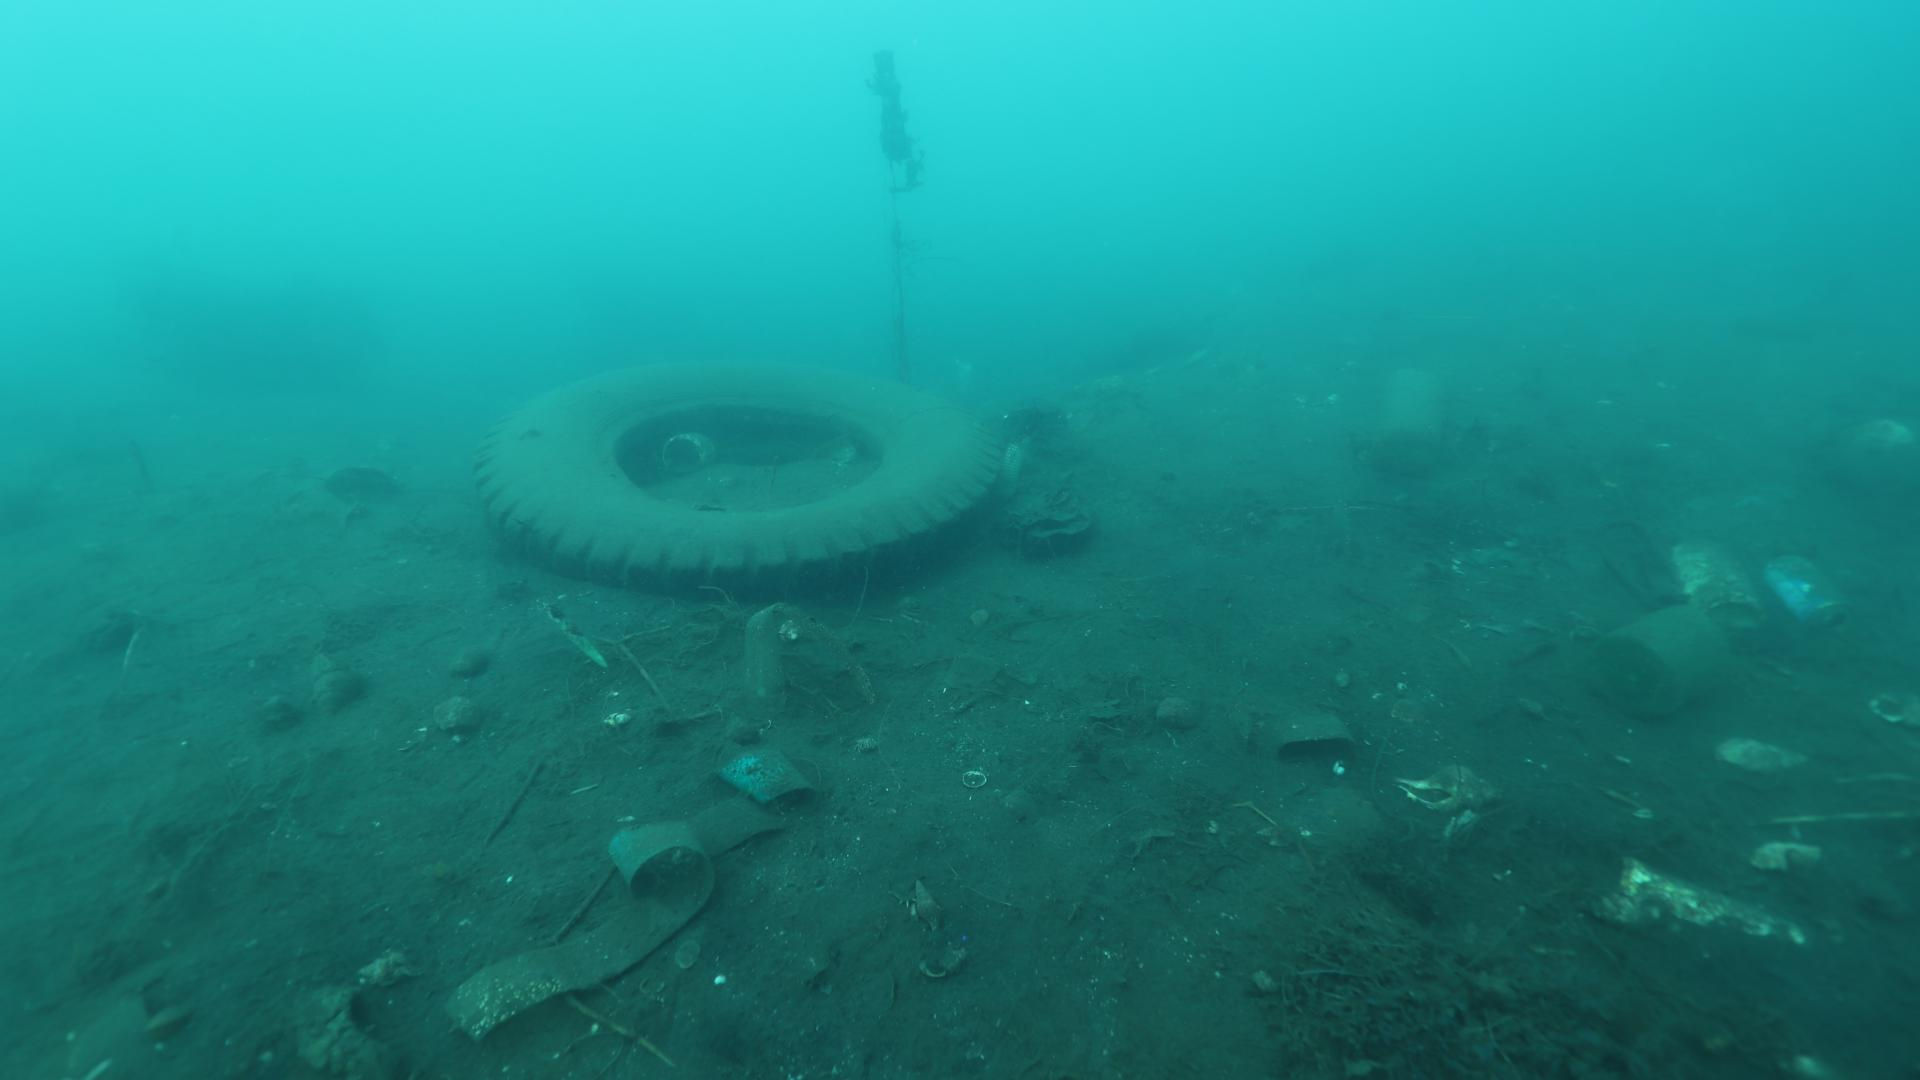tire: (468, 353, 1002, 600)
